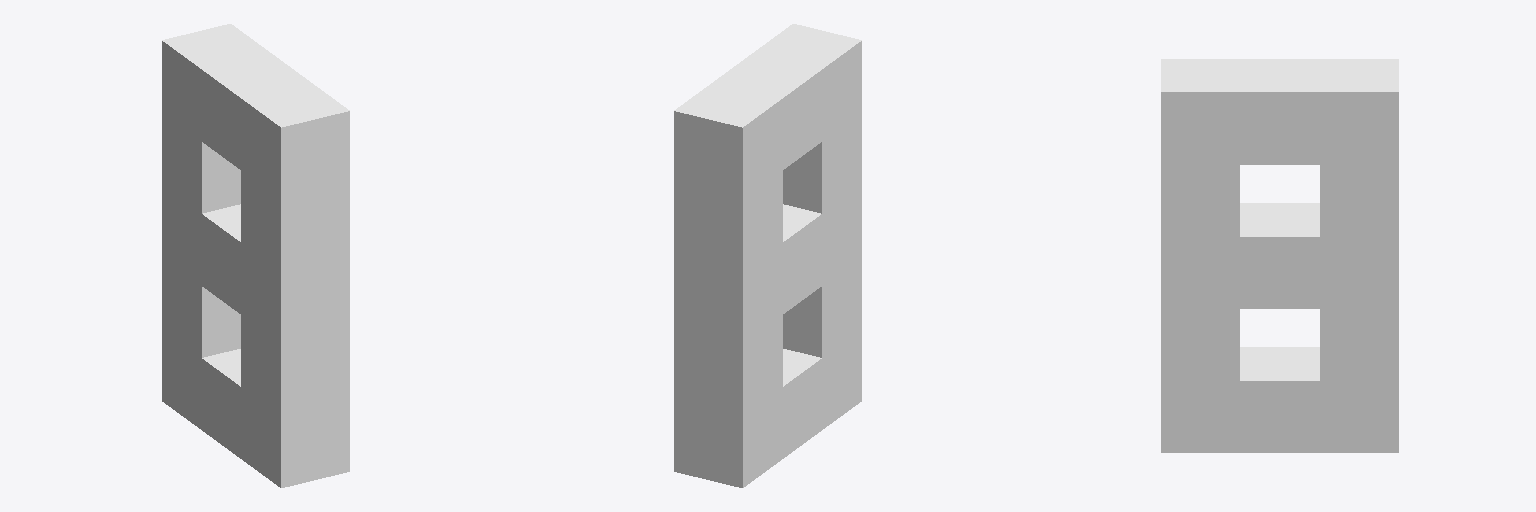
Rendered from nowruz-display-2.obj.
The picture shows the model from 3 angles: view 1: azimuth 30°, elevation 25°; view 2: azimuth 150°, elevation 25°; view 3: azimuth 270°, elevation 25°; orthographic projection.
Visible parts, largest first — view 1: object 1; view 2: object 1; view 3: object 1.
Boxes of the visible parts, x1=… form: object 1: x1=162, y1=24, x2=349, y2=487; object 1: x1=674, y1=24, x2=861, y2=487; object 1: x1=1161, y1=59, x2=1398, y2=452.
Size of the model in its own units: 0.1 by 0.5 by 0.3.